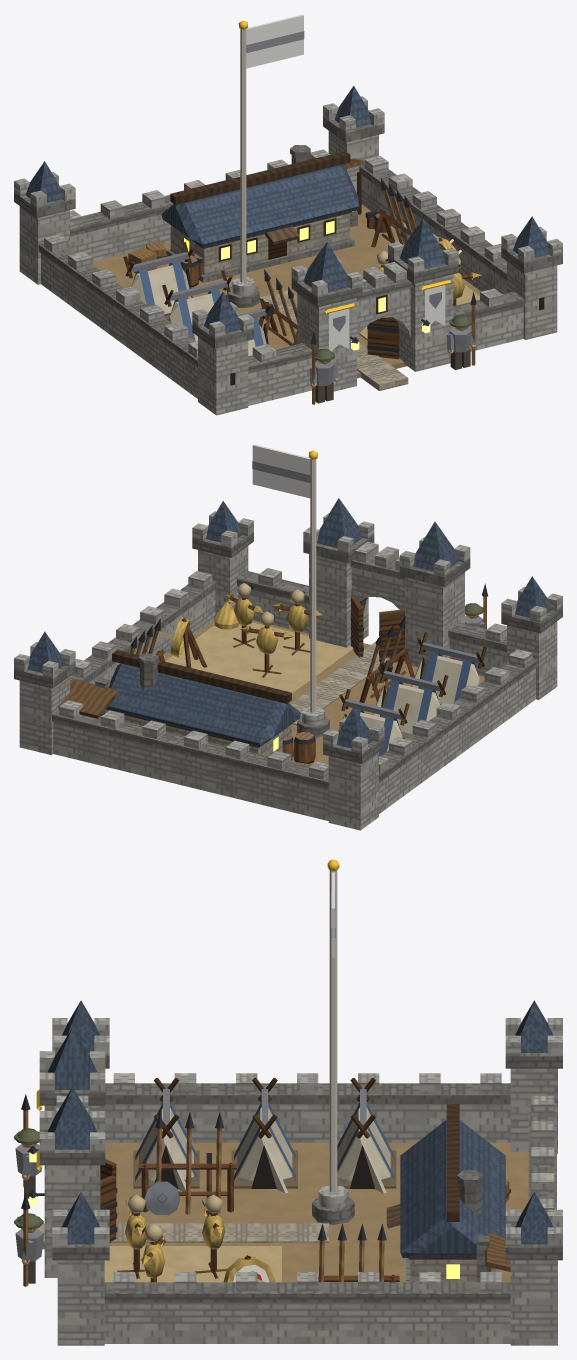
File: military_base.glb
3 views of the same model, one above another, from view 1: azimuth 30°, elevation 25°; view 2: azimuth 150°, elevation 25°; view 3: azimuth 270°, elevation 25° (orthographic). The views are drawn at different scales.
Parts seen in each view (by area): view 1: military_base; view 2: military_base; view 3: military_base.
Boxes of the visible parts, x1,y1,x2,y2 form: military_base: [14, 14, 562, 415]; military_base: [14, 444, 562, 830]; military_base: [14, 859, 562, 1345].
Size of the model in its own units: 1.19 by 0.936 by 1.28.
4 materials, 1 textured.
